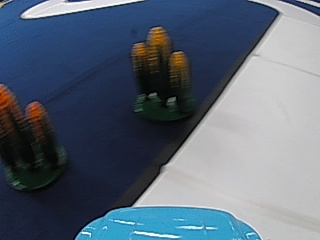corn: (129, 23, 198, 124), (5, 94, 67, 194)
